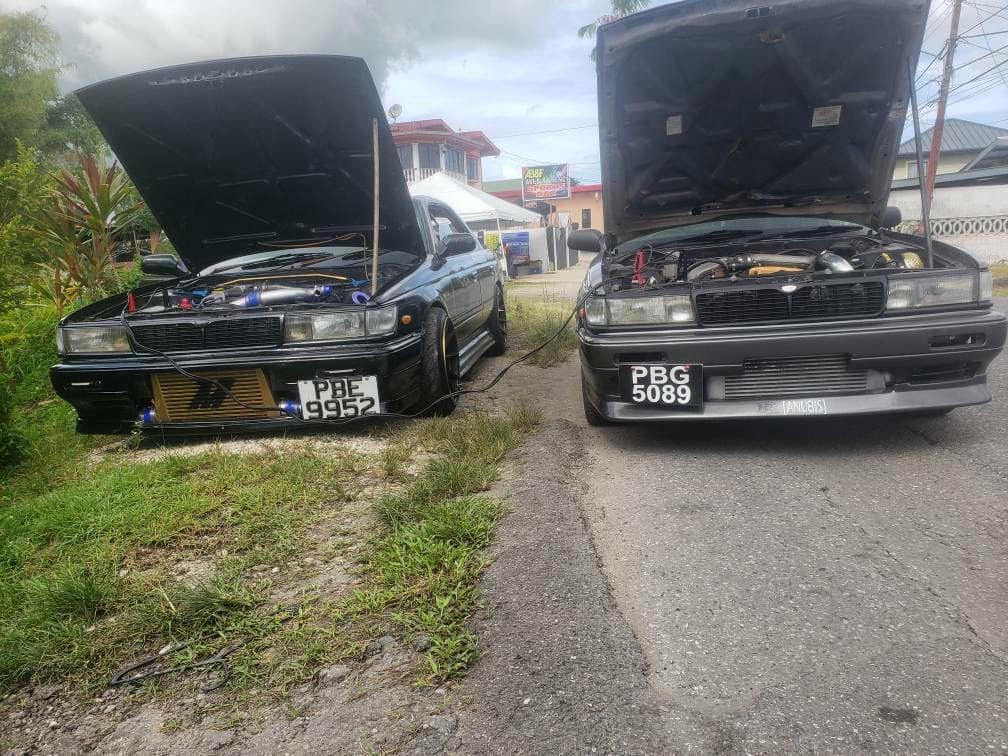License-Plate: (622, 363, 701, 403), (300, 381, 375, 421)
